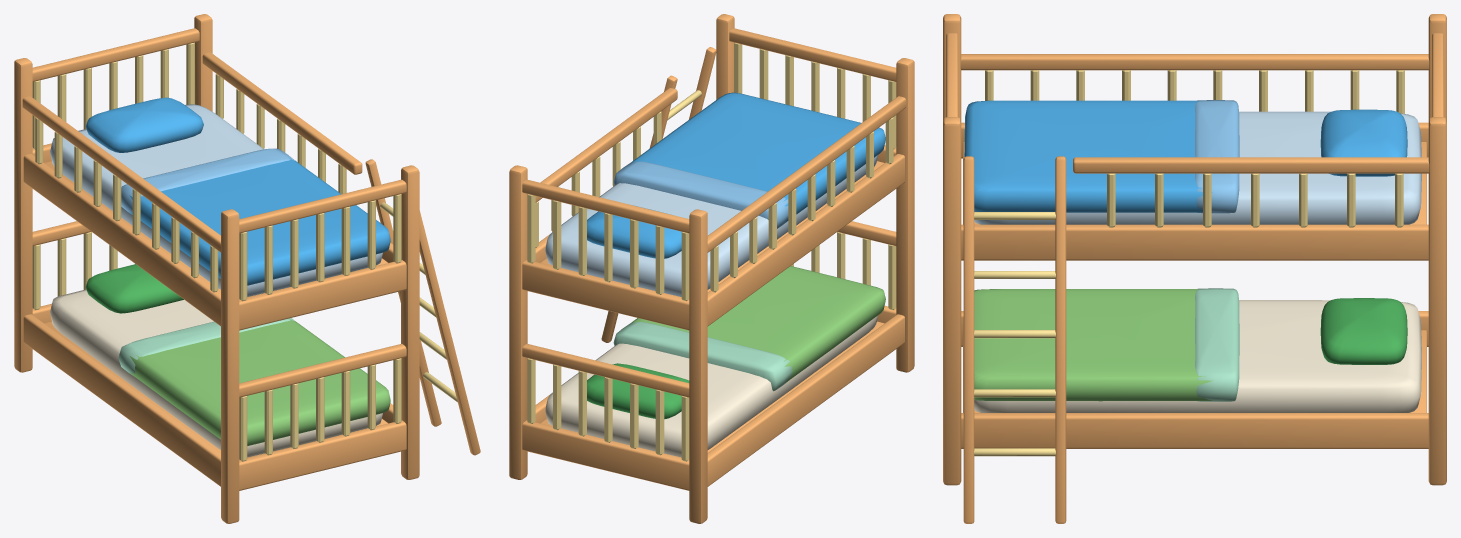
File: beliche_madeira_laranja.glb
3 renders of one model, left to right at view 1: azimuth 30°, elevation 25°; view 2: azimuth 150°, elevation 25°; view 3: azimuth 270°, elevation 25°, orthographic. The views are drawn at different scales.
Parts seen in each view (by area): view 1: beliche_madeira_laranja; view 2: beliche_madeira_laranja; view 3: beliche_madeira_laranja.
Part boxes in pixels (x1,y1,x2,y2): beliche_madeira_laranja: (14,14,480,523); beliche_madeira_laranja: (509,14,914,523); beliche_madeira_laranja: (943,14,1446,523).
Bounding box in the file's own units: 1.48 × 1.66 × 2.09.
Materials: 1 (1 with a texture image).
